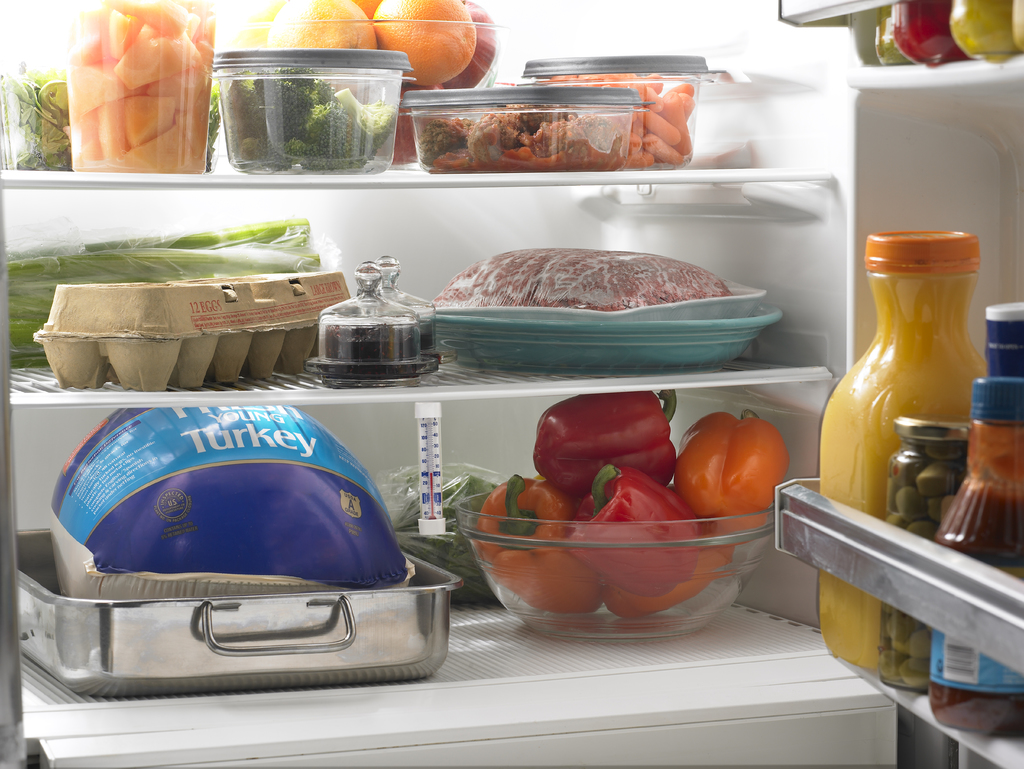refrigerator door: (878, 74, 1024, 720)
